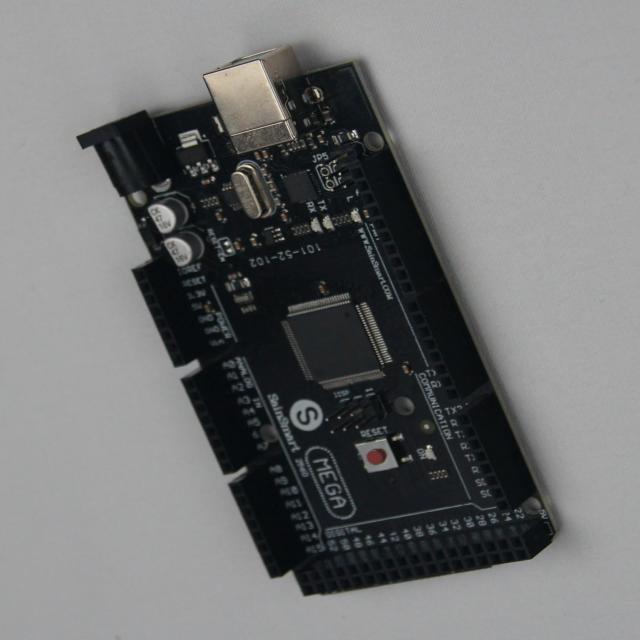Arduino Mega 2560 -Black-: (79, 49, 555, 595)
